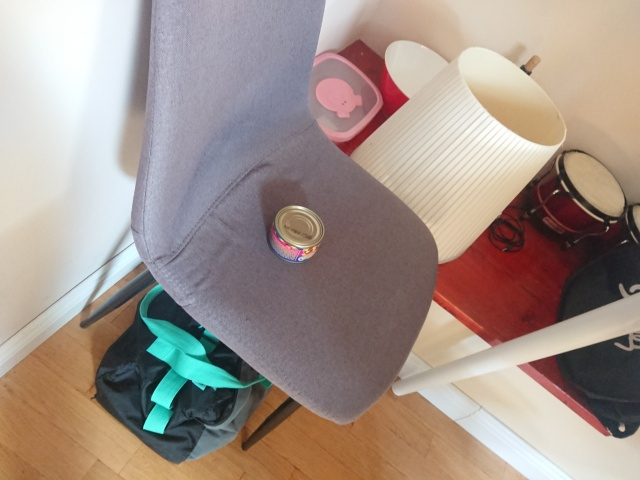Giana Tuna Salad Mexico 185g: (266, 203, 326, 266)
